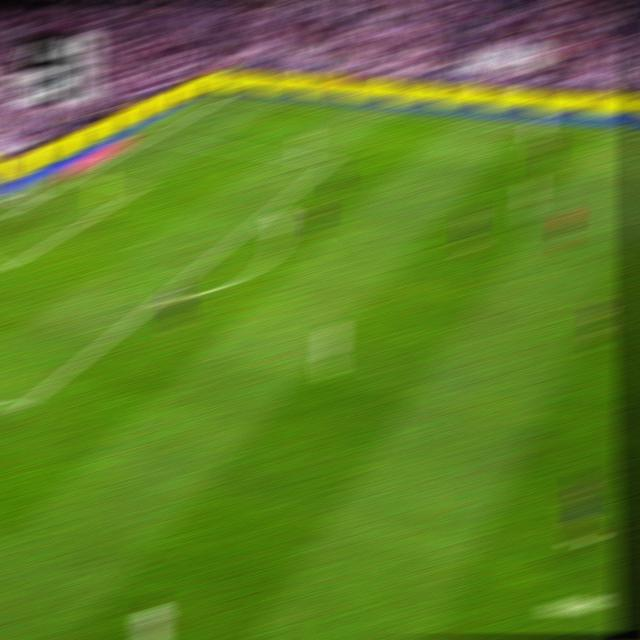bigarea_bottom_inner: (9, 396, 32, 418)
bigarea_top_inner: (321, 155, 338, 166)
bigarea_top_outter: (144, 130, 165, 142)
bottom_arc_area_intersection: (149, 290, 168, 306)
smallarea_top_inner: (128, 182, 147, 194)
top_arc_area_intersection: (252, 208, 271, 222)
